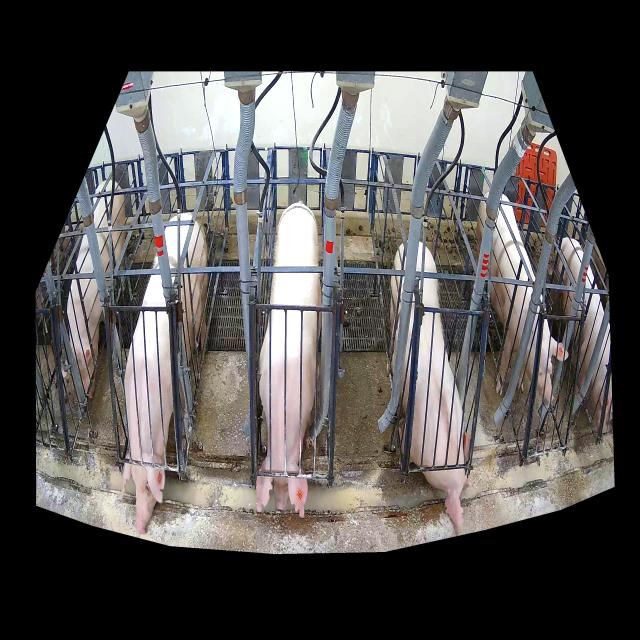pig: (121, 214, 208, 536), (389, 239, 471, 534), (256, 203, 322, 517), (476, 192, 564, 408), (68, 181, 127, 399), (556, 237, 613, 433)
